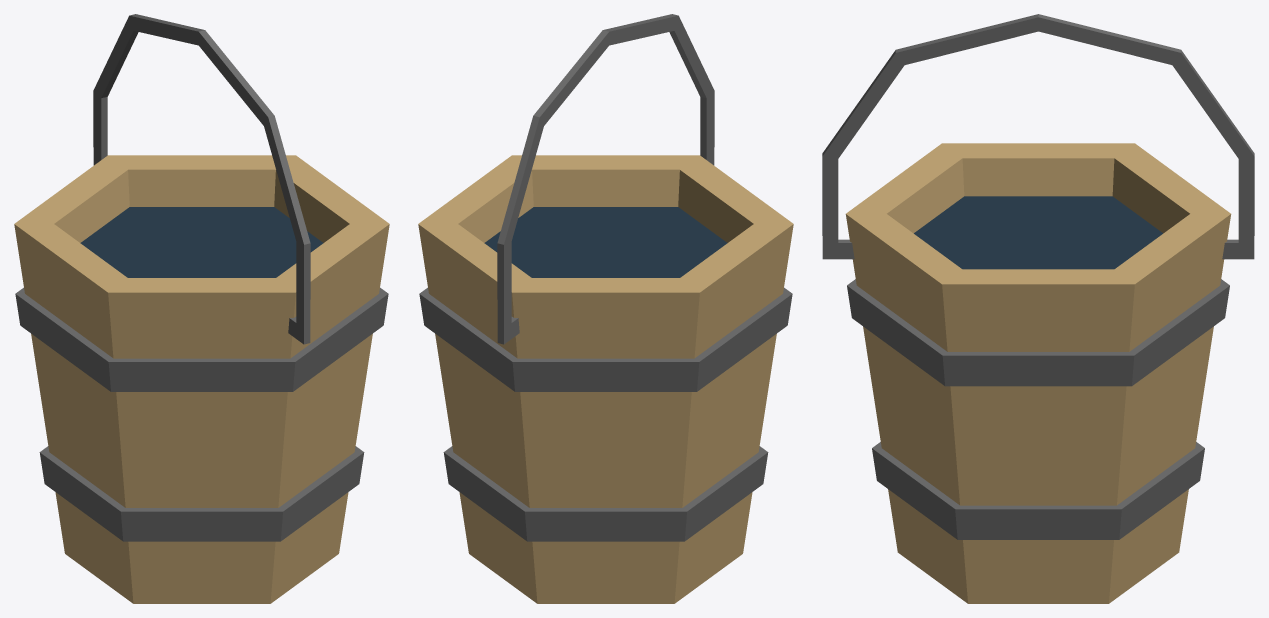
File: Bucket_1_1.fbx
3 renders of one model, left to right at view 1: azimuth 30°, elevation 25°; view 2: azimuth 150°, elevation 25°; view 3: azimuth 270°, elevation 25°, orthographic. The views are drawn at different scales.
Parts seen in each view (by area): view 1: Bucket_1_1, Bucket (×2); view 2: Bucket_1_1, Bucket (×2); view 3: Bucket_1_1, Bucket (×2).
Boxes of the visible parts, x1,y1,x2,y2 form: Bucket_1_1: (14,155,389,603); Bucket (×2): (80,14,323,344); Bucket_1_1: (418,155,793,603); Bucket (×2): (484,14,727,344); Bucket_1_1: (845,143,1231,603); Bucket (×2): (822,14,1254,269).
Size of the model in its own units: 15.32 by 27.17 by 19.84.
